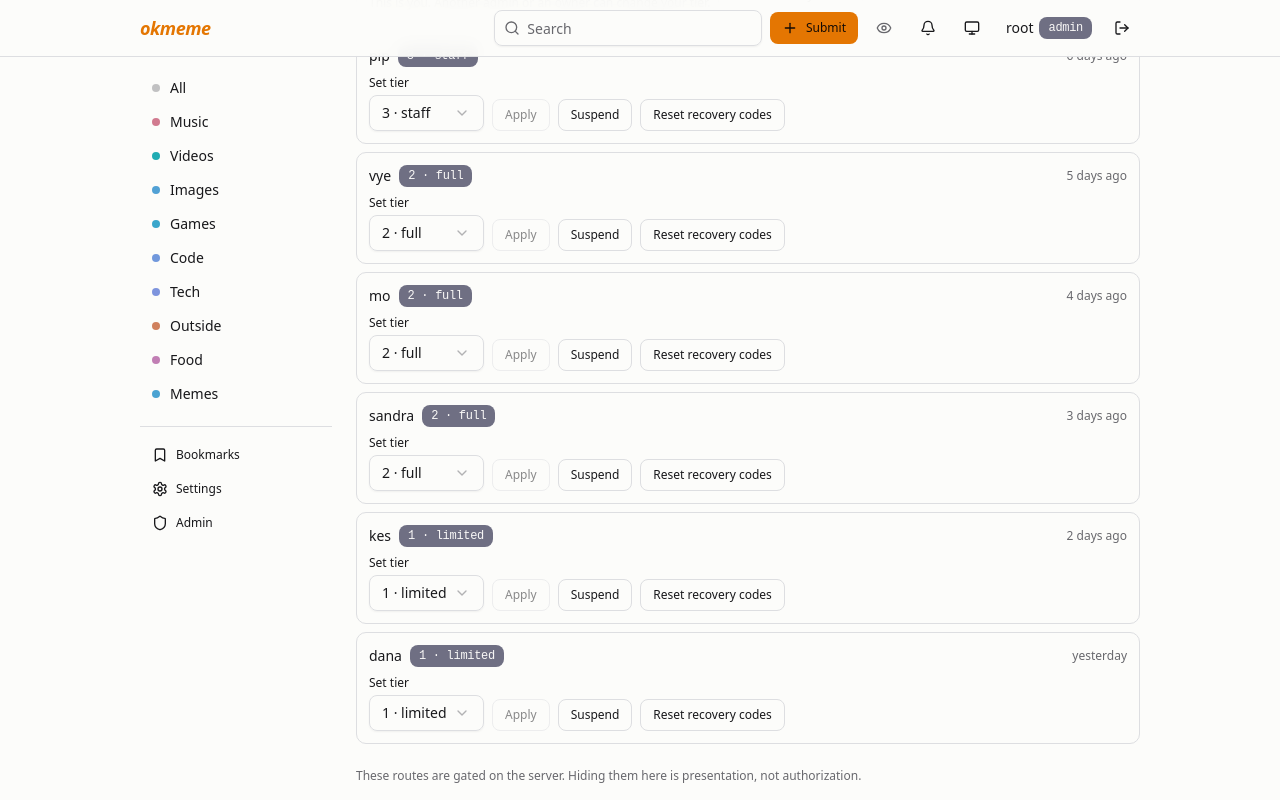
Test: admin users tab › explains the numbers and shows owner, self and peer-admin rows read-only to an admin
(page scrolled)
expect the button "Apply" below "sandra" is disabled: met, box [492,459,550,491]
Select "3 · staff" in the dropdown labelled "Set tier" below "sandra" at [426, 473], box [369,455,484,491]
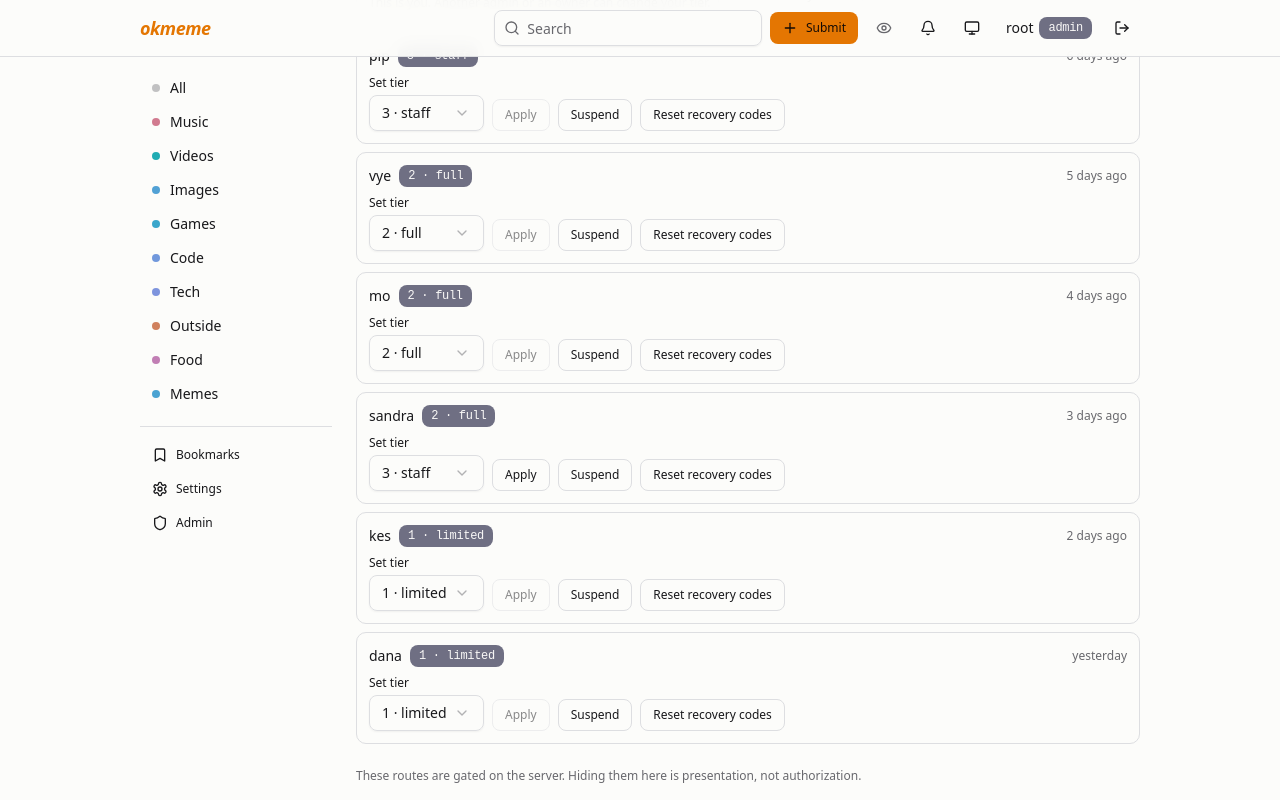
expect the button "Apply" below "sandra" is enabled: met, box [492,459,550,491]
